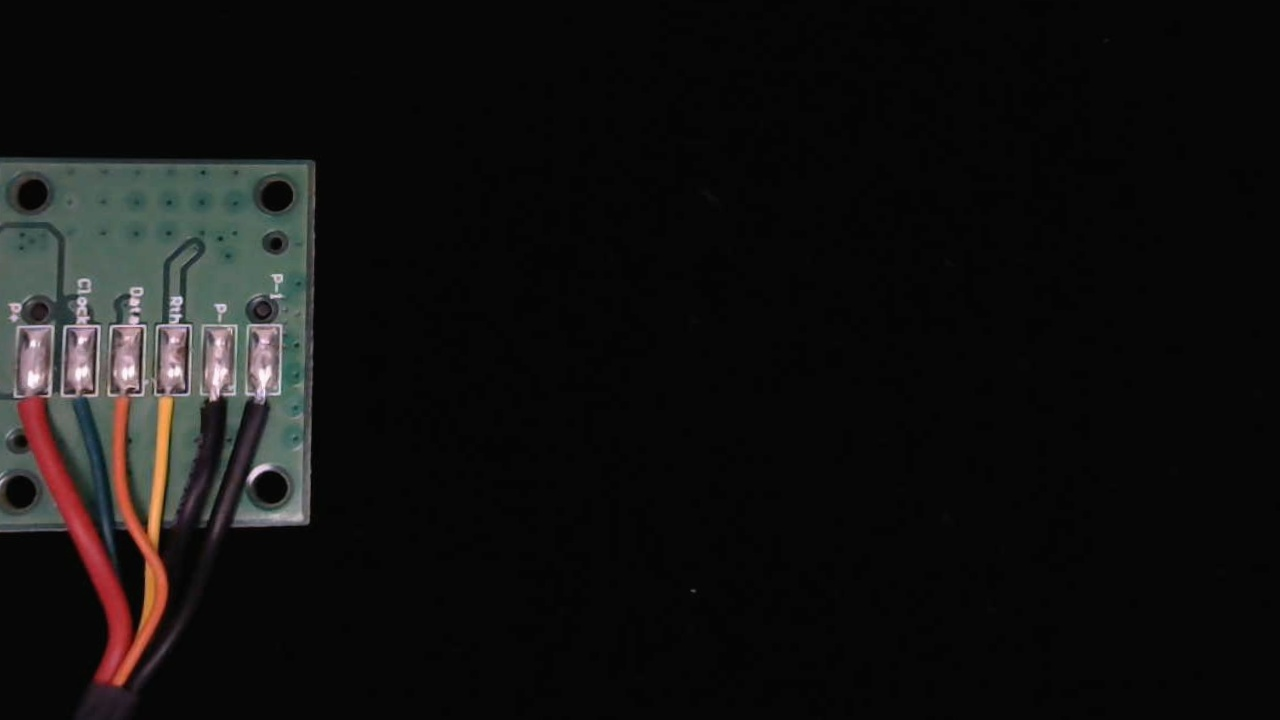Black: (195, 380, 234, 457)
Black1: (242, 380, 283, 455)
Green: (56, 378, 101, 457)
Orange: (105, 379, 147, 460)
Red: (8, 381, 53, 460)
Yellow: (146, 380, 190, 463)
